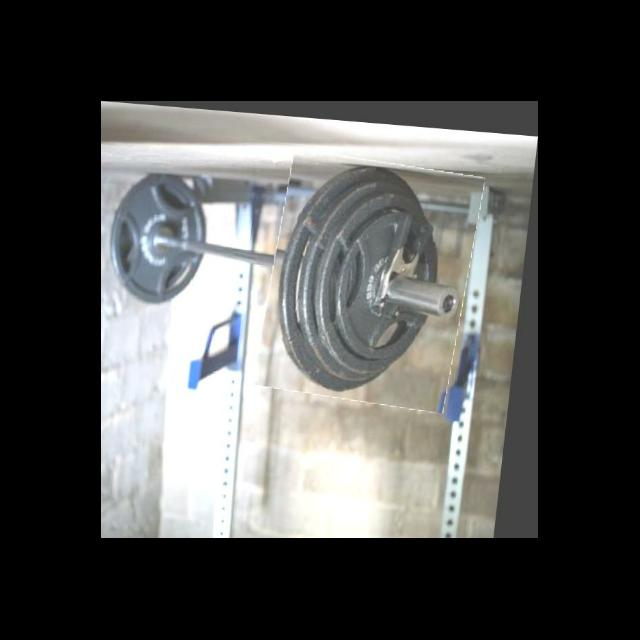barbell: (262, 148, 483, 404)
